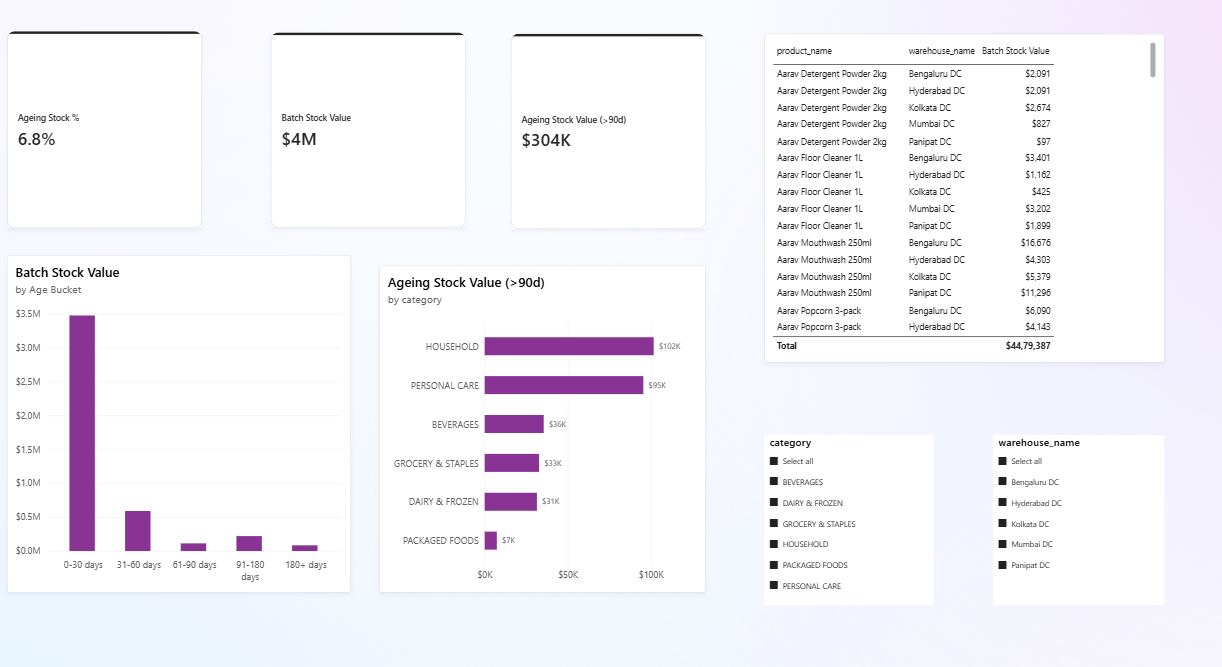

The dashboard page shown, as its layout file describes it:
{"tool":"powerbi","page":{"name":"Ageing","canvas":[1920,1080],"ordinal":3},"visuals":[{"type":"slicer","fields":{"Values":["dim_warehouse.warehouse_name"]},"box":[1532.7,676.9,263.5,261.5],"z":0},{"type":"slicer","fields":{"Values":["dim_product.category"]},"box":[1180.8,676.9,259.6,261.5],"z":1000},{"type":"cardVisual","fields":{"Data":["_Measures.Batch Stock Value"]},"box":[421.2,57.7,300,300],"z":2000},{"type":"cardVisual","fields":{"Data":["_Measures.Ageing Stock Value (>90d)"]},"box":[790.4,59.6,300,300],"z":3000},{"type":"cardVisual","fields":{"Data":["_Measures.Ageing Stock %"]},"box":[15.4,55.8,300,303],"z":4000},{"type":"clusteredColumnChart","fields":{"Category":["fact_inventory_batches.Age Bucket"],"Y":["_Measures.Batch Stock Value"]},"box":[15.4,400,528.8,519.2],"z":4001},{"type":"clusteredBarChart","fields":{"Category":["dim_product.category"],"Y":["_Measures.Ageing Stock Value (>90d)"]},"box":[588.5,415.4,501.9,503.8],"z":4002},{"type":"tableEx","fields":{"Values":["dim_product.product_name","dim_warehouse.warehouse_name","_Measures.Batch Stock Value"]},"box":[1180.8,59.6,615.4,505.8],"z":4003}]}

Visuals, with their boxes on the page's 1920x1080 design canvas (x1, y1, x2, y2). These are canvas units, not pixel positions in the 1222x667 screenshot, which may show the page scaled, cropped or inside an application window:
slicer - dim_warehouse.warehouse_name: pyautogui.locateOnScreen(1533, 677, 1796, 938)
slicer - dim_product.category: pyautogui.locateOnScreen(1181, 677, 1440, 938)
cardVisual - _Measures.Batch Stock Value: pyautogui.locateOnScreen(421, 58, 721, 358)
cardVisual - _Measures.Ageing Stock Value (>90d): pyautogui.locateOnScreen(790, 60, 1090, 360)
cardVisual - _Measures.Ageing Stock %: pyautogui.locateOnScreen(15, 56, 315, 359)
clusteredColumnChart - fact_inventory_batches.Age Bucket x _Measures.Batch Stock Value: pyautogui.locateOnScreen(15, 400, 544, 919)
clusteredBarChart - dim_product.category x _Measures.Ageing Stock Value (>90d): pyautogui.locateOnScreen(588, 415, 1090, 919)
tableEx - dim_product.product_name x dim_warehouse.warehouse_name: pyautogui.locateOnScreen(1181, 60, 1796, 565)
